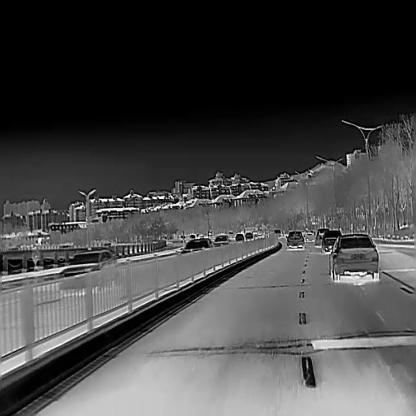car: (57, 249, 120, 293), (327, 233, 379, 281), (180, 237, 215, 255), (320, 229, 341, 254), (286, 230, 305, 249), (314, 228, 329, 246), (213, 234, 231, 246), (234, 233, 244, 241), (244, 230, 252, 239)
